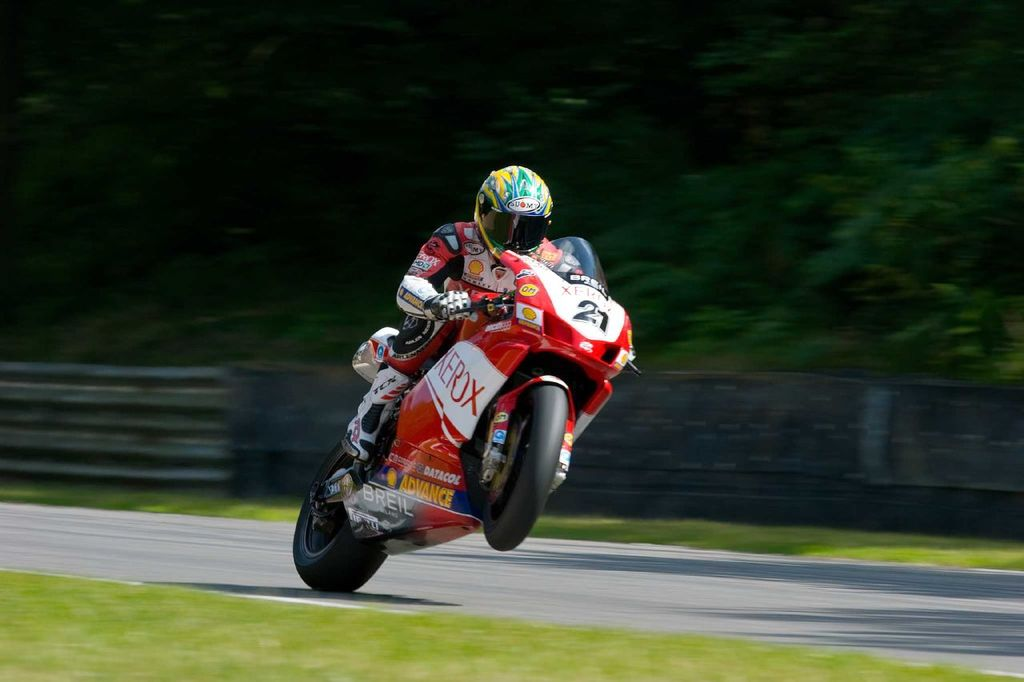Motorcycle: (289, 239, 641, 597)
